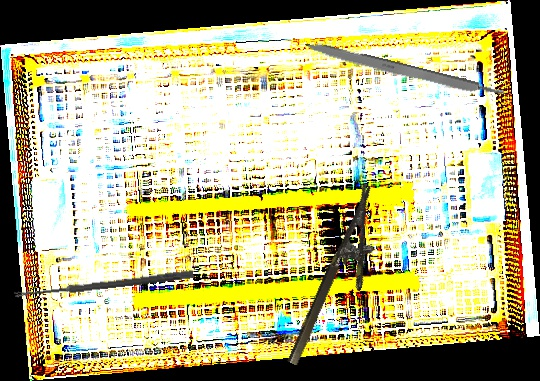Needle Holder: (285, 183, 401, 377)
Scalpel Handle: (303, 39, 505, 103)
Surgical Spoon: (14, 269, 194, 300)
